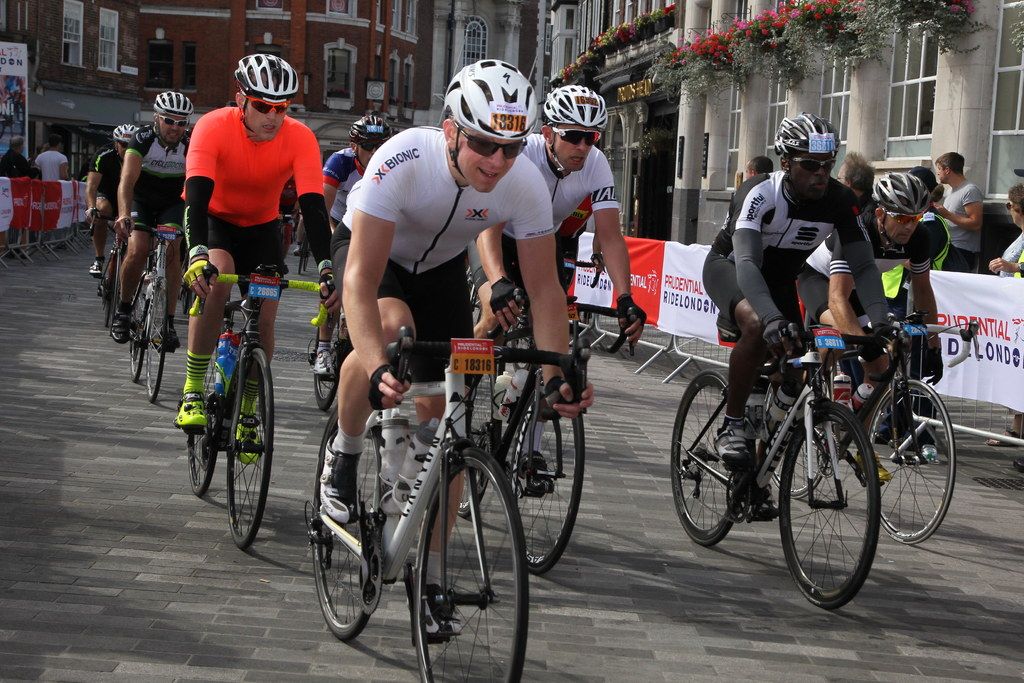Bike_toward: (307, 372, 618, 683)
